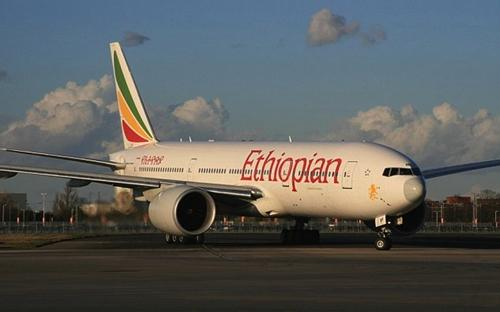airplane: (2, 40, 497, 239)
